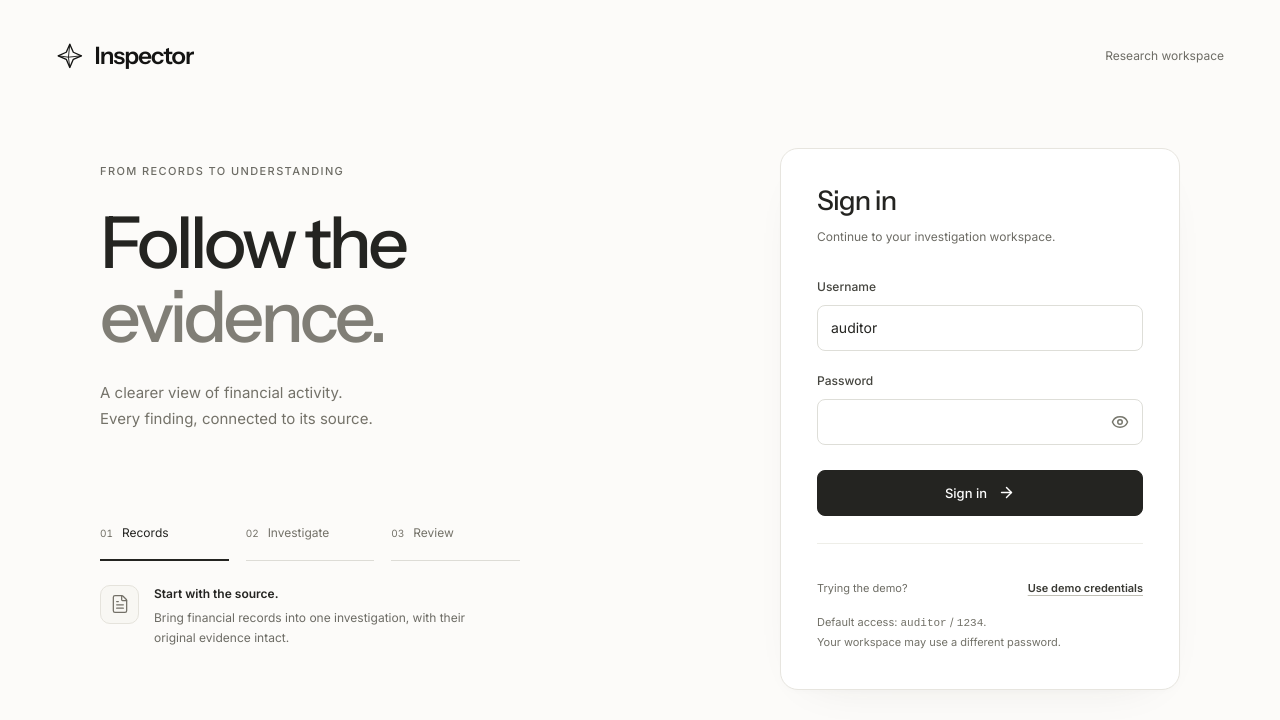
Test: DemoLogin › can fill demo credentials without signing in and toggle password visibility
Click the button "Use demo credentials" at (1085, 588), box x1=1028 y1=566 x2=1143 y2=610
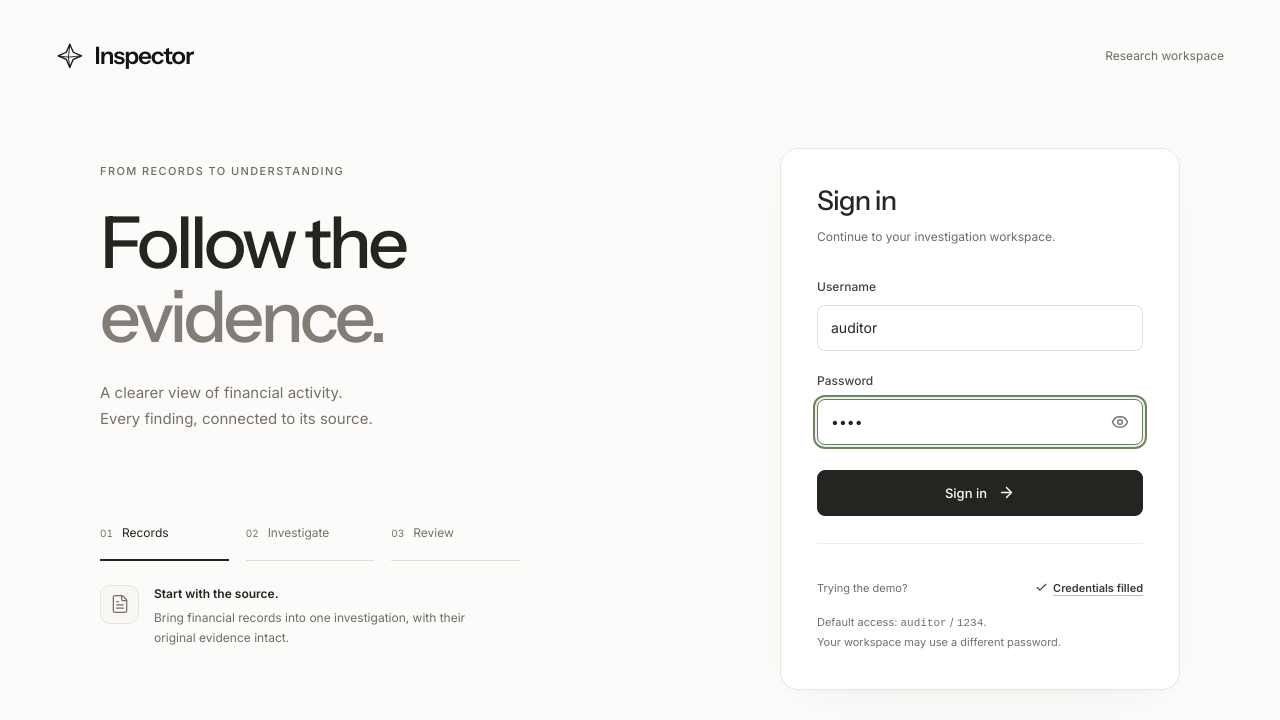
Result: the password field labelled "Password" holds "1234" at x1=817 y1=399 x2=1143 y2=445
Click the button named "Show password" at (1120, 422), box x1=1098 y1=400 x2=1142 y2=444
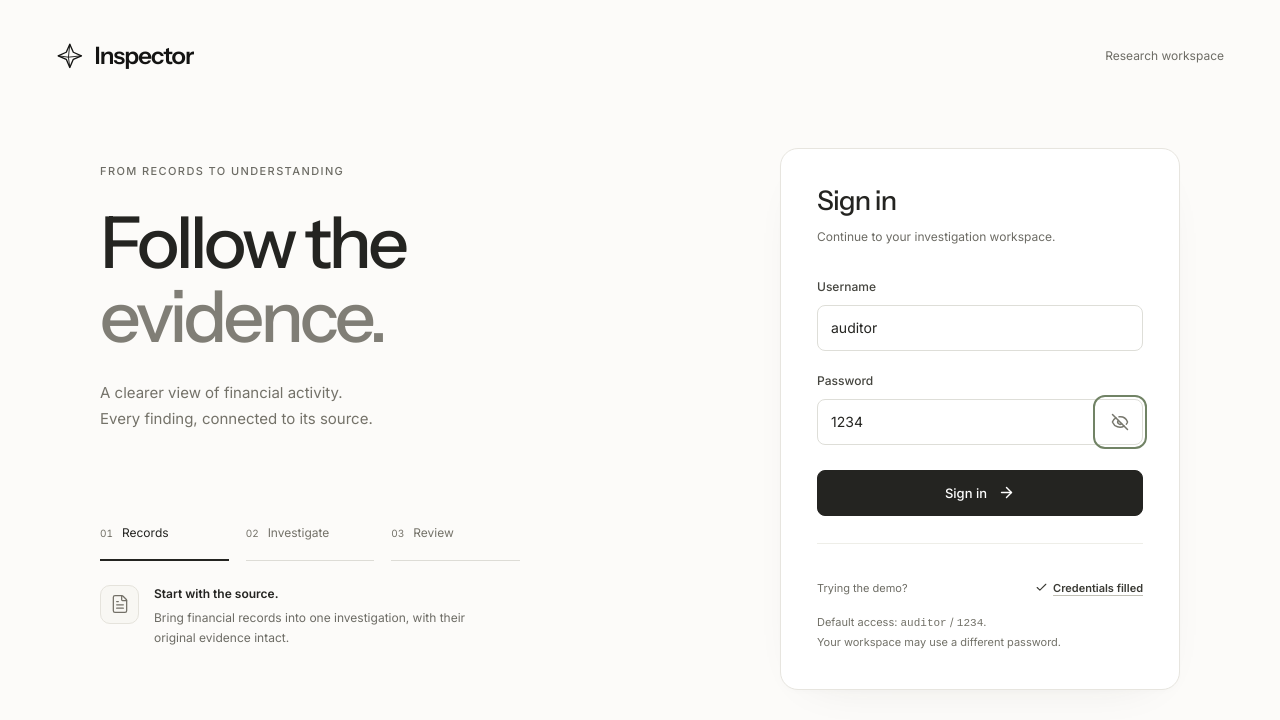
Result: the field labelled "Password" shows its text at x1=817 y1=399 x2=1143 y2=445
Click the button named "Hide password" at (1120, 422), box x1=1098 y1=400 x2=1142 y2=444
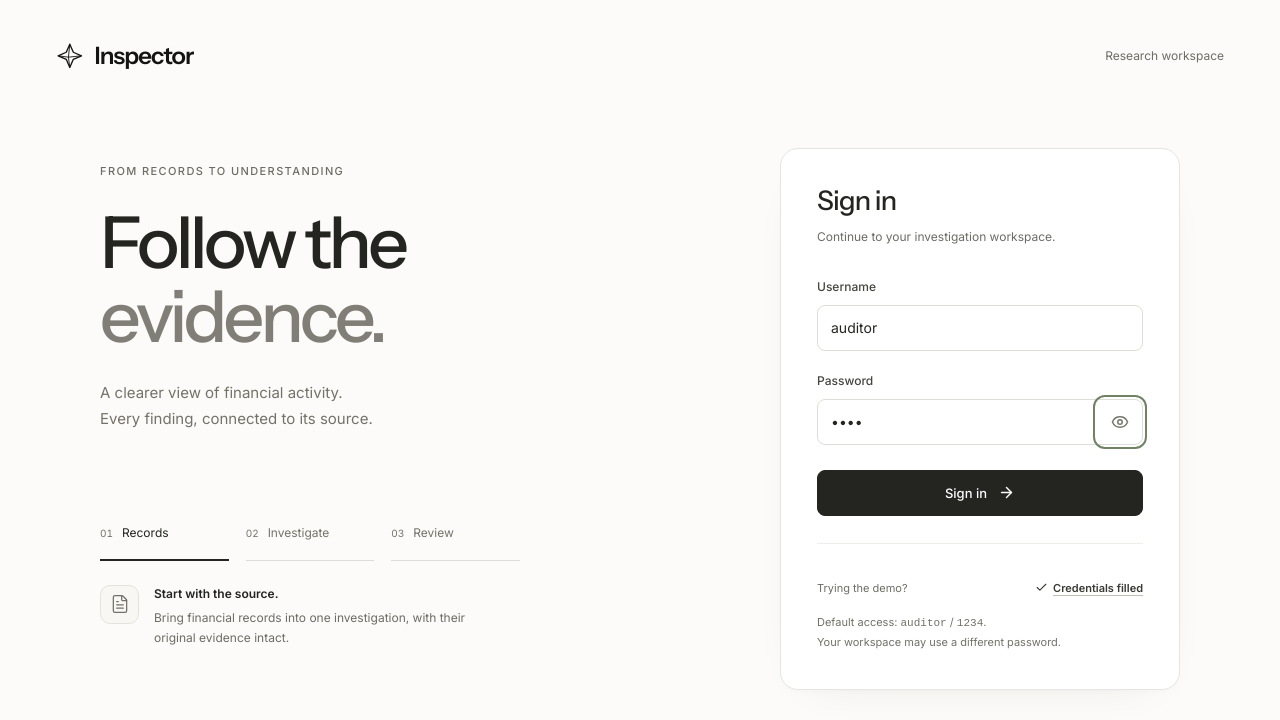
Result: the password field labelled "Password" hides its text at x1=817 y1=399 x2=1143 y2=445
